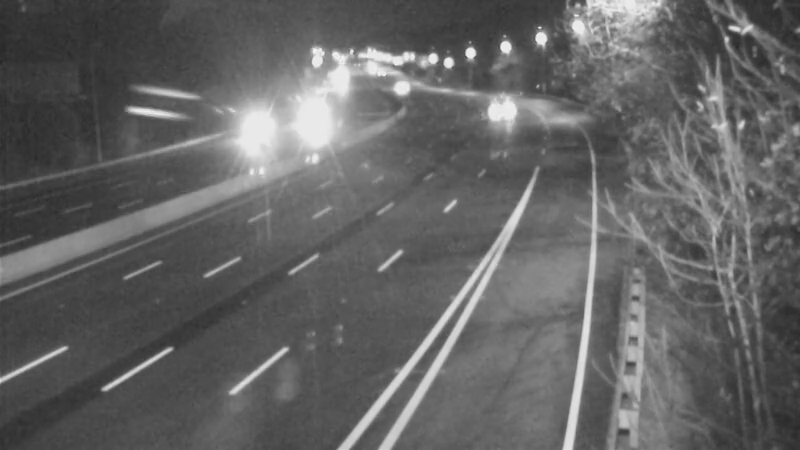vehicle: (377, 62, 427, 112), (473, 90, 523, 140), (223, 101, 273, 151), (286, 97, 336, 147)
